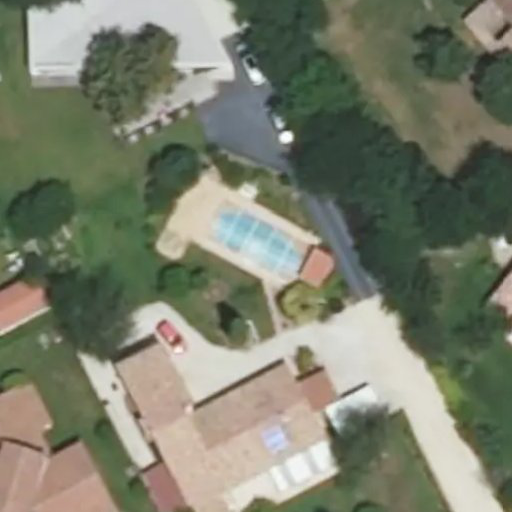pool: (207, 201, 309, 284)
